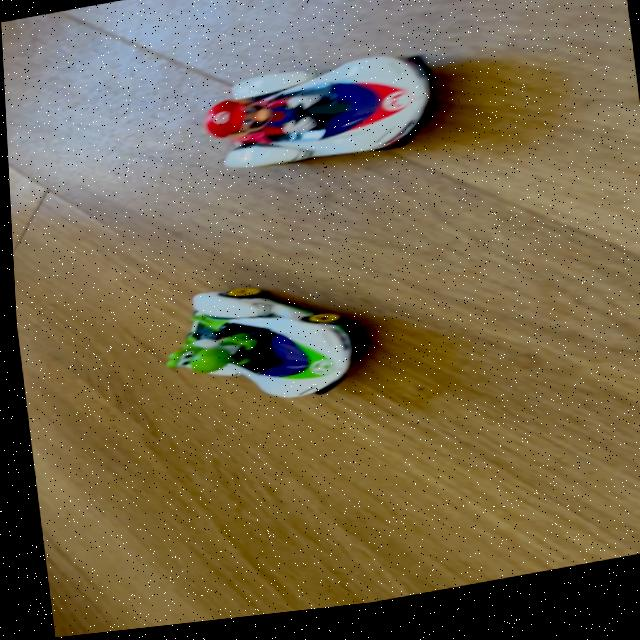mario: (193, 44, 459, 193)
yoshi: (134, 267, 370, 440)
